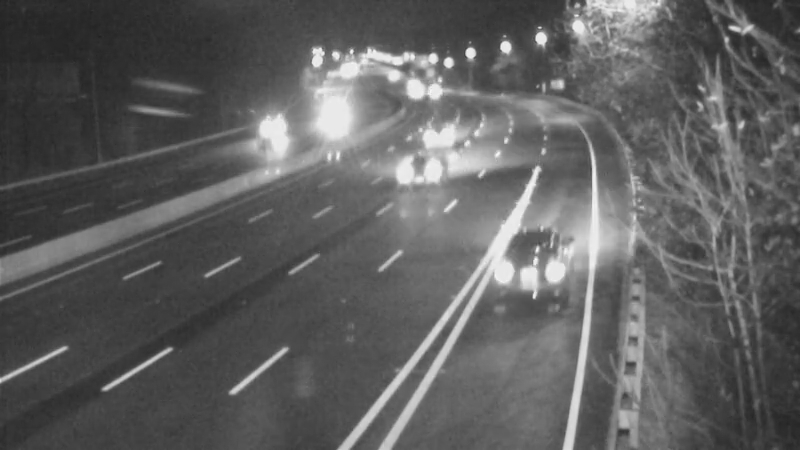vehicle: (379, 130, 459, 210), (488, 235, 568, 315), (369, 50, 419, 100), (384, 59, 434, 109), (410, 67, 460, 117), (389, 66, 439, 116), (417, 106, 467, 156), (255, 105, 305, 155), (311, 86, 361, 136)
